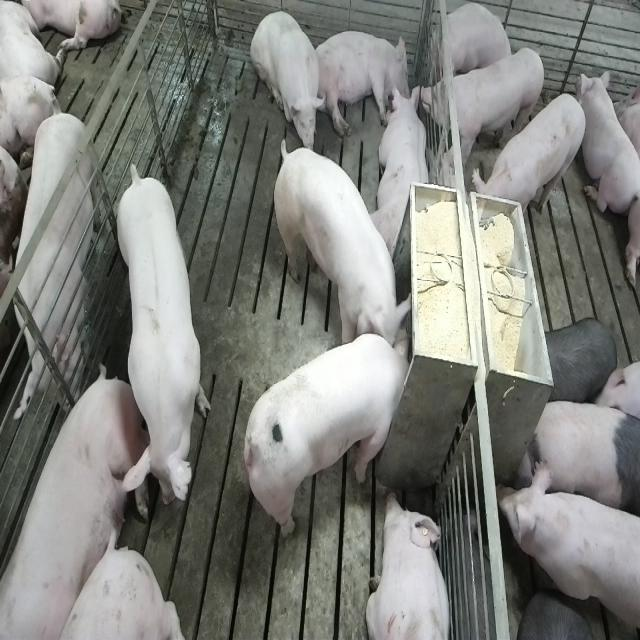Feeding: (249, 330, 421, 538), (270, 135, 409, 357)
Lateral_lying: (4, 363, 156, 636), (314, 29, 411, 137)
Sitting: (251, 9, 327, 152)
Standing: (115, 167, 207, 526), (0, 101, 94, 426), (498, 455, 638, 640), (473, 92, 588, 235), (421, 47, 546, 172), (526, 396, 638, 517), (536, 314, 618, 410)
Sternal_lying: (368, 491, 454, 640), (373, 84, 432, 259), (580, 70, 638, 222)
